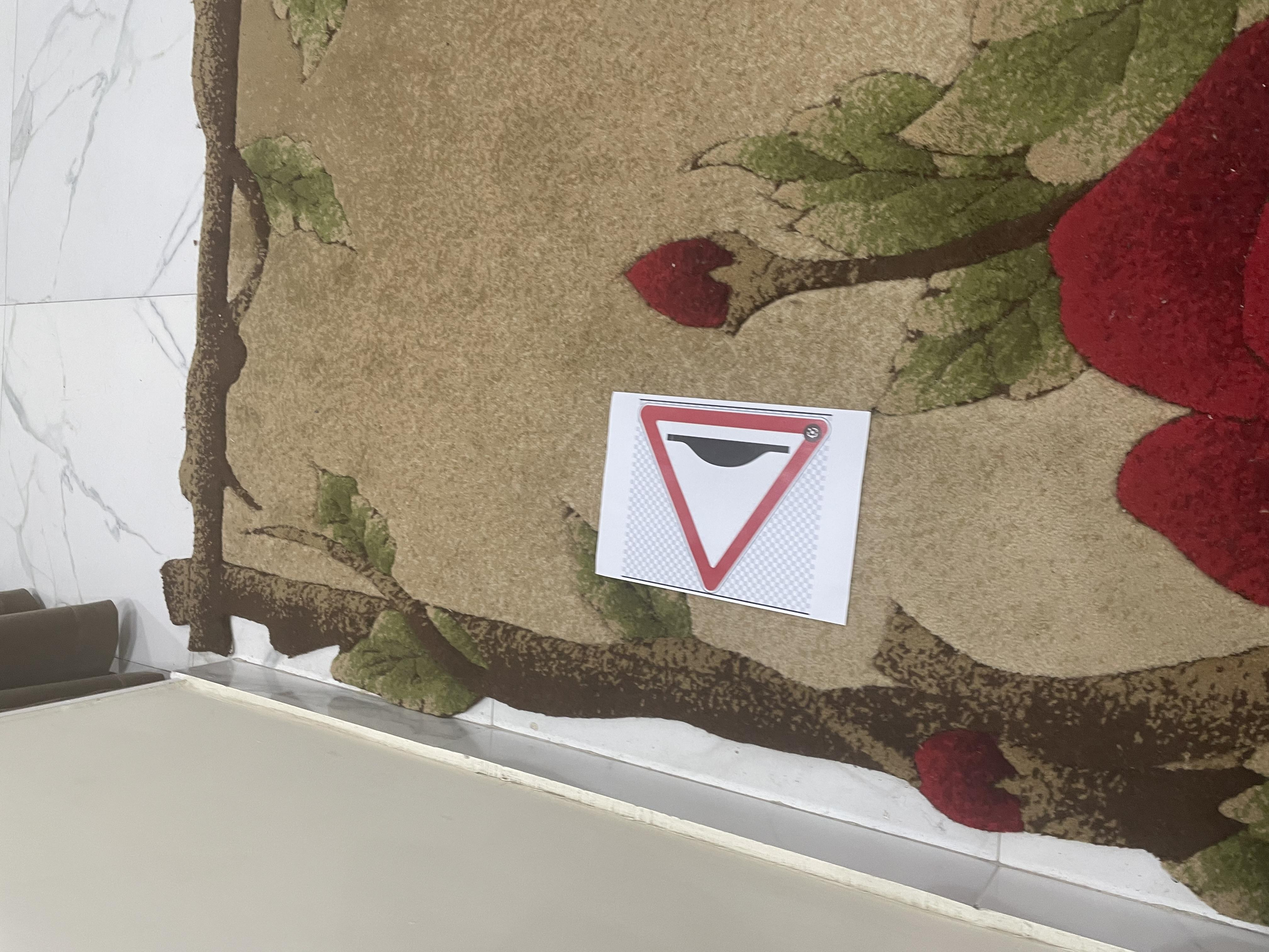Hump: (465, 475, 748, 623)
